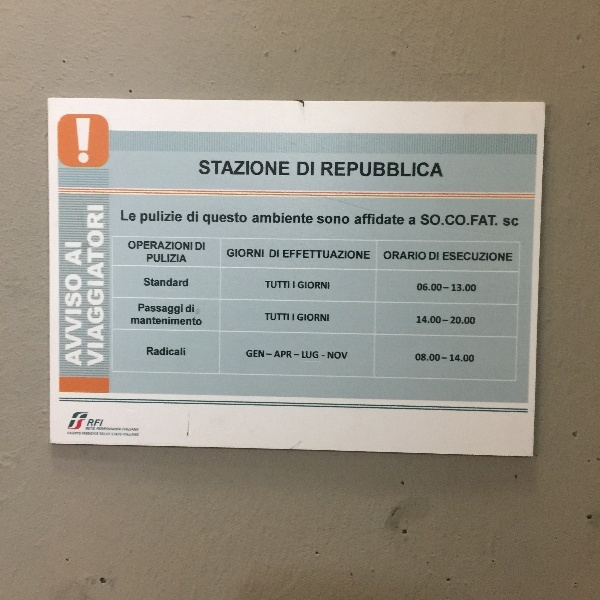text: (86, 203, 96, 369), (65, 275, 80, 368), (97, 203, 105, 369), (81, 118, 91, 164), (65, 241, 80, 268), (209, 160, 224, 176), (225, 160, 240, 176), (241, 160, 256, 176), (257, 160, 272, 176), (273, 160, 288, 176), (321, 162, 336, 178), (337, 162, 352, 178), (353, 162, 368, 178), (369, 162, 384, 178), (385, 162, 400, 178), (401, 162, 416, 178), (417, 162, 432, 178), (145, 210, 160, 225), (161, 210, 176, 225), (209, 212, 224, 226), (225, 212, 240, 226), (257, 212, 272, 225), (273, 212, 288, 225), (289, 212, 304, 225), (369, 213, 384, 226), (385, 213, 400, 226), (433, 214, 448, 227), (449, 214, 464, 227), (465, 214, 480, 227), (481, 214, 496, 227), (76, 118, 80, 164), (145, 303, 160, 315), (161, 303, 176, 315), (433, 162, 444, 178), (177, 240, 193, 251), (497, 251, 513, 262), (129, 240, 144, 251), (145, 240, 160, 251), (161, 240, 176, 251), (145, 277, 160, 288), (161, 277, 176, 288), (241, 248, 256, 259), (289, 249, 304, 260), (305, 249, 320, 260), (321, 249, 336, 260), (337, 249, 352, 260), (353, 249, 368, 260), (449, 251, 464, 262), (465, 251, 480, 262), (481, 251, 496, 262), (356, 213, 368, 226), (161, 253, 176, 263), (145, 316, 160, 326), (161, 316, 176, 326), (177, 316, 192, 326), (161, 347, 176, 357), (385, 251, 400, 261), (401, 251, 416, 261), (417, 315, 432, 325), (433, 315, 448, 325), (449, 315, 464, 325), (417, 353, 432, 363), (433, 353, 448, 363), (449, 353, 464, 363), (227, 248, 240, 259), (305, 161, 314, 176), (321, 216, 336, 225), (417, 283, 432, 292), (433, 283, 448, 292), (449, 283, 464, 292), (305, 281, 320, 290), (305, 313, 320, 322), (177, 277, 189, 288), (422, 214, 432, 227), (147, 253, 160, 263), (131, 316, 144, 326), (147, 347, 160, 357), (200, 160, 208, 176), (273, 313, 289, 321), (273, 281, 288, 289), (337, 216, 350, 225), (305, 351, 319, 359), (177, 253, 188, 263), (465, 315, 476, 325), (196, 242, 208, 251), (276, 350, 288, 359), (297, 161, 304, 176), (305, 212, 313, 225), (465, 353, 475, 363), (465, 283, 476, 292), (241, 212, 248, 226), (337, 352, 349, 360), (81, 275, 82, 368), (177, 210, 183, 225), (193, 316, 202, 326), (177, 347, 186, 357), (417, 251, 426, 261), (121, 210, 128, 222), (129, 210, 136, 222), (503, 218, 512, 227), (321, 281, 330, 290), (246, 350, 256, 358), (257, 248, 264, 259), (97, 427, 112, 432), (113, 427, 128, 432), (193, 211, 199, 223), (138, 303, 144, 315), (177, 303, 183, 315), (321, 313, 329, 322), (203, 212, 208, 226), (257, 350, 265, 358), (328, 352, 336, 360), (97, 419, 105, 427), (409, 217, 416, 226), (187, 211, 192, 223), (273, 249, 279, 259), (433, 251, 439, 261), (322, 354, 336, 358), (89, 419, 96, 427), (82, 432, 96, 436), (265, 281, 272, 289), (265, 313, 272, 321), (283, 249, 288, 260), (443, 251, 448, 262), (513, 218, 519, 227), (186, 304, 192, 313), (298, 281, 304, 290), (298, 313, 304, 322), (86, 427, 96, 432), (129, 427, 139, 432), (141, 210, 144, 225), (129, 433, 139, 437), (253, 212, 256, 225), (401, 213, 404, 226), (67, 432, 80, 435), (289, 350, 293, 359), (100, 433, 112, 436), (269, 249, 272, 259), (294, 353, 304, 356), (429, 251, 432, 261), (317, 216, 320, 225), (81, 241, 82, 268), (113, 433, 122, 436), (123, 433, 128, 437), (193, 304, 195, 313), (266, 353, 272, 356), (289, 160, 290, 176), (302, 351, 304, 359), (497, 214, 498, 227), (369, 249, 370, 260), (415, 353, 416, 363), (97, 432, 99, 436), (289, 281, 290, 289), (81, 432, 82, 435)
